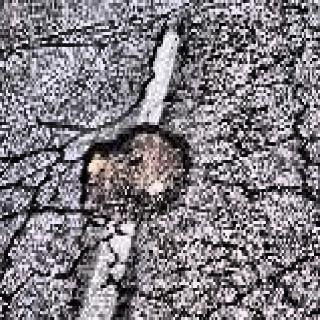pothole: (70, 113, 200, 240)
